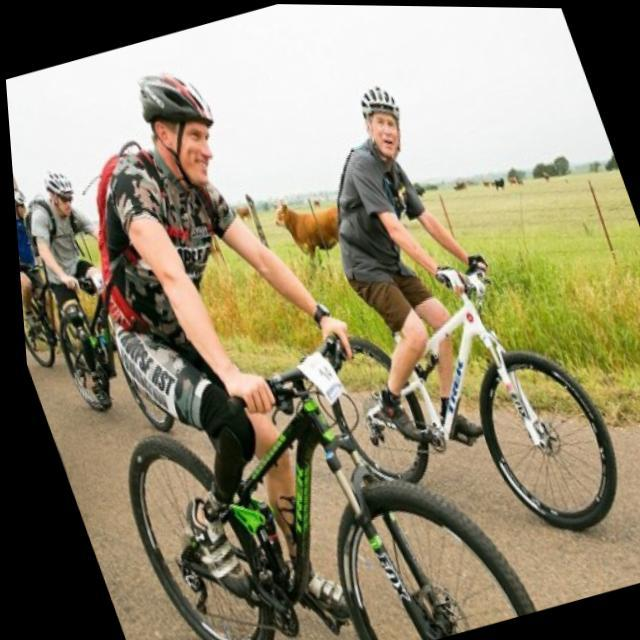Helmet: (126, 57, 228, 196), (344, 76, 408, 161)
